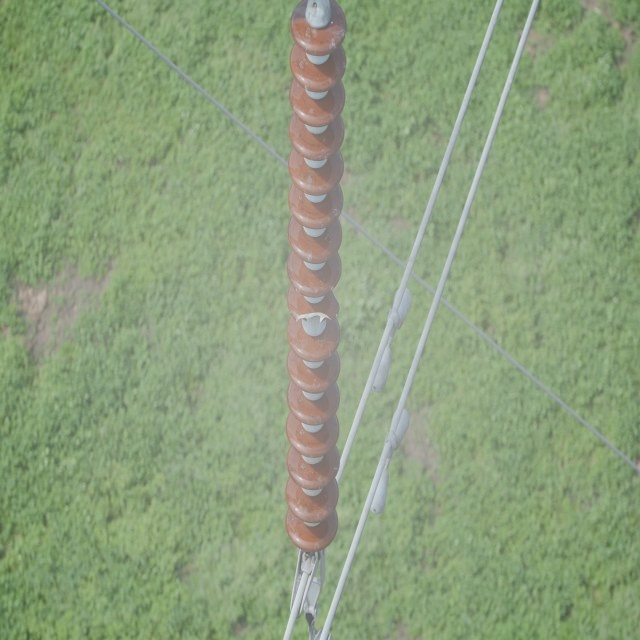broken: (294, 302, 342, 327)
insulator: (284, 3, 348, 550)
